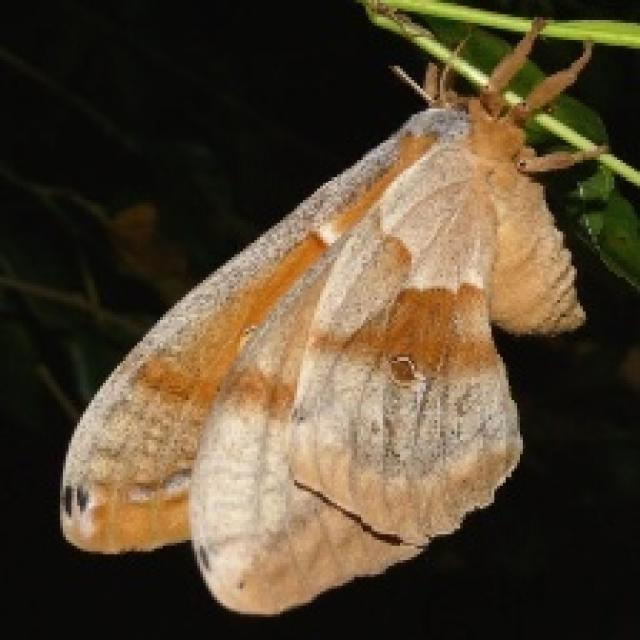butterfly: (54, 12, 609, 617)
